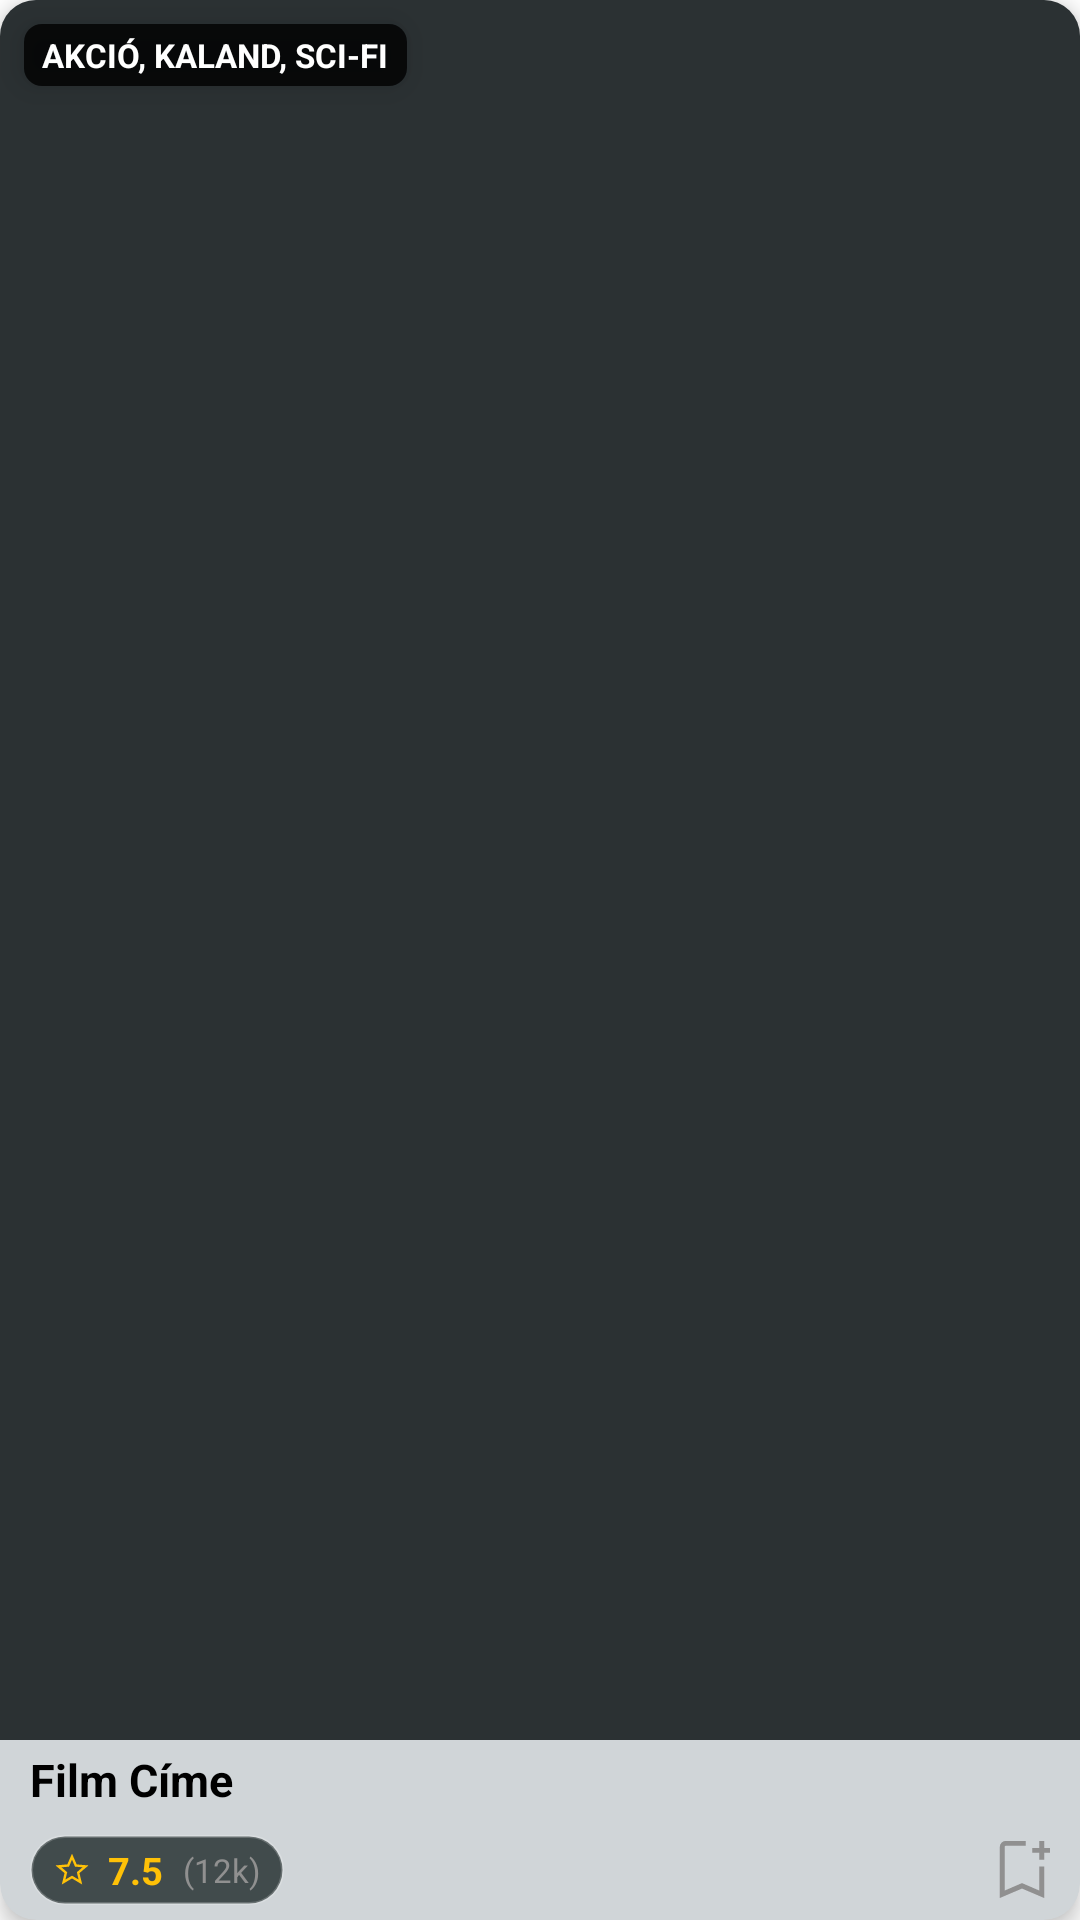

Named icons in this screenshot (1080w x 1920h) and their bounding boxes, {"left": x1, "top": y1, "right": x2, "bottom": y2}:
bookmark save: {"left": 1000, "top": 1841, "right": 1050, "bottom": 1898}
star: {"left": 56, "top": 1854, "right": 88, "bottom": 1884}
